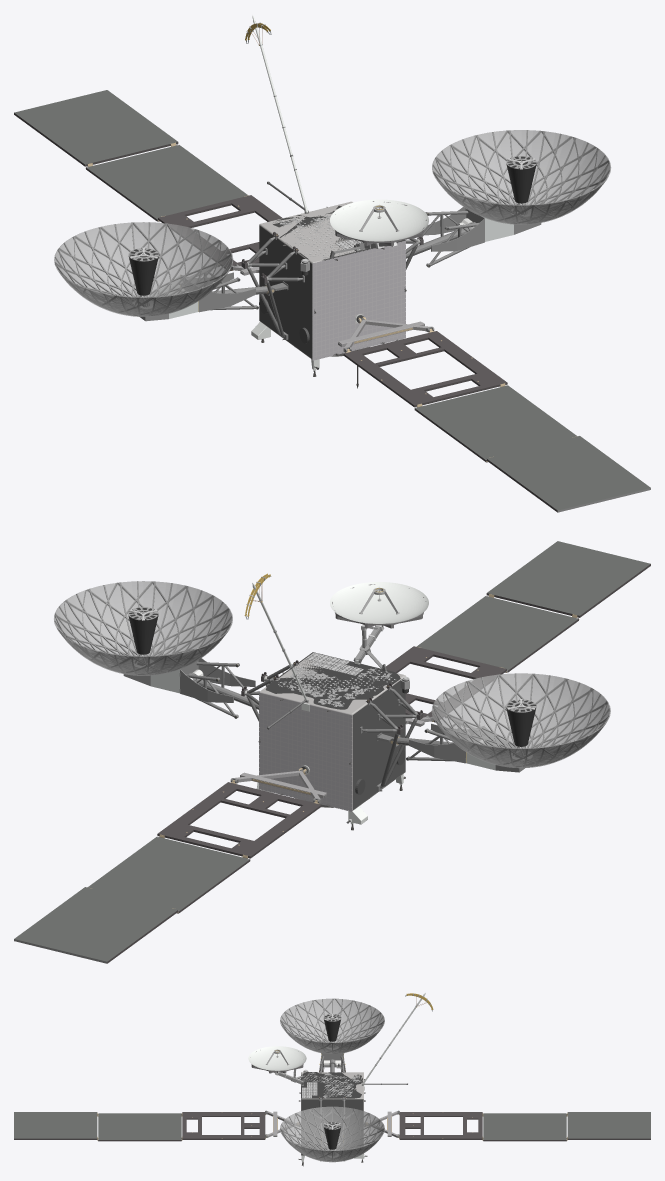
Rendered from tracking-and-data-relay-satellites-tdrs-d.glb.
3 renders of one model, top to bottom at view 1: azimuth 30°, elevation 25°; view 2: azimuth 150°, elevation 25°; view 3: azimuth 270°, elevation 25°, orthographic. The views are drawn at different scales.
Parts seen in each view (by area): view 1: mainbody; view 2: mainbody; view 3: mainbody.
Boxes of the visible parts, x1,y1,x2,y2 form: mainbody: [14, 15, 650, 512]; mainbody: [14, 541, 650, 963]; mainbody: [14, 993, 650, 1166].
Bounding box in the file's own units: 1.71 × 0.9144 × 3.02.
3 materials, 3 textured.
